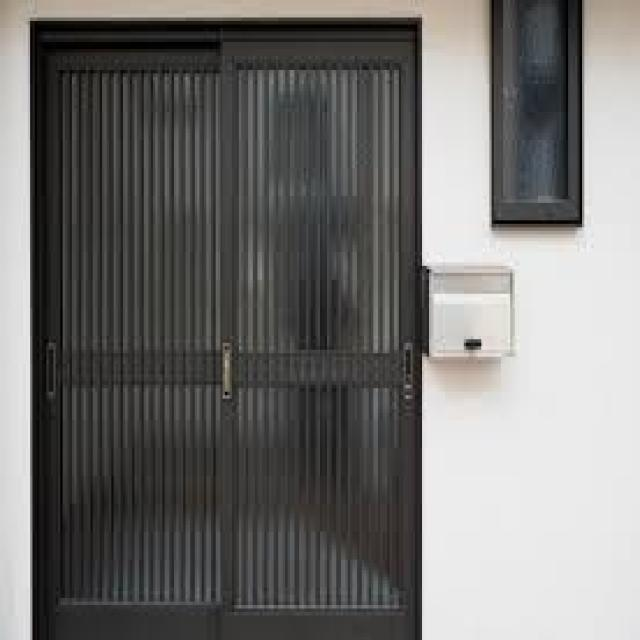door: (30, 17, 424, 640)
